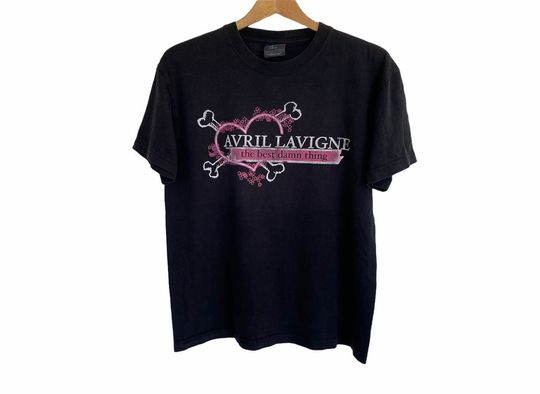design: (194, 98, 351, 188)
